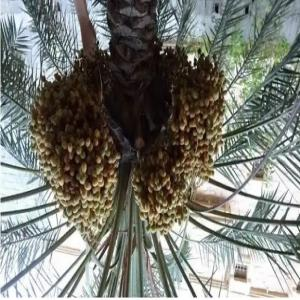palm tree: (1, 0, 299, 297)
